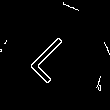L_NE: (26, 26, 84, 84)
